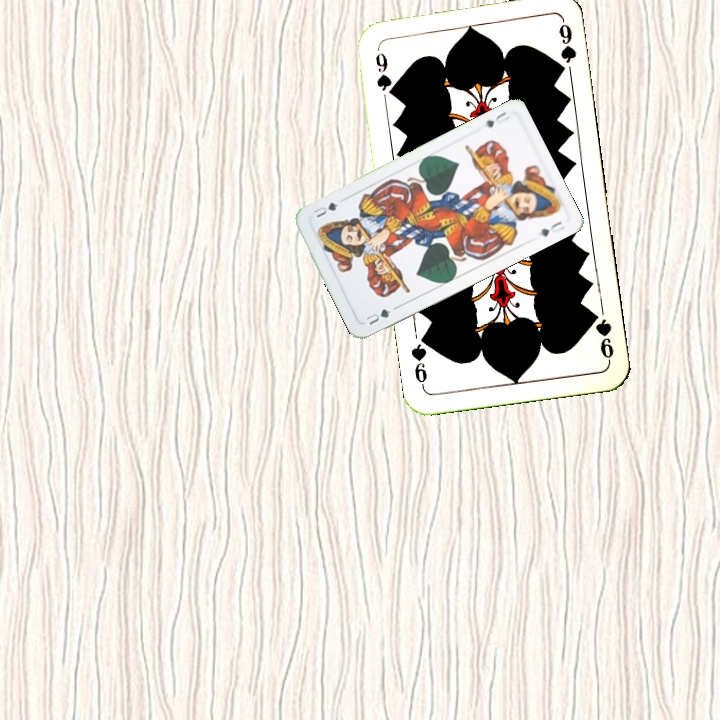G9: (587, 307, 616, 365), (372, 43, 397, 100)
GU: (362, 303, 399, 328), (481, 107, 512, 130)
